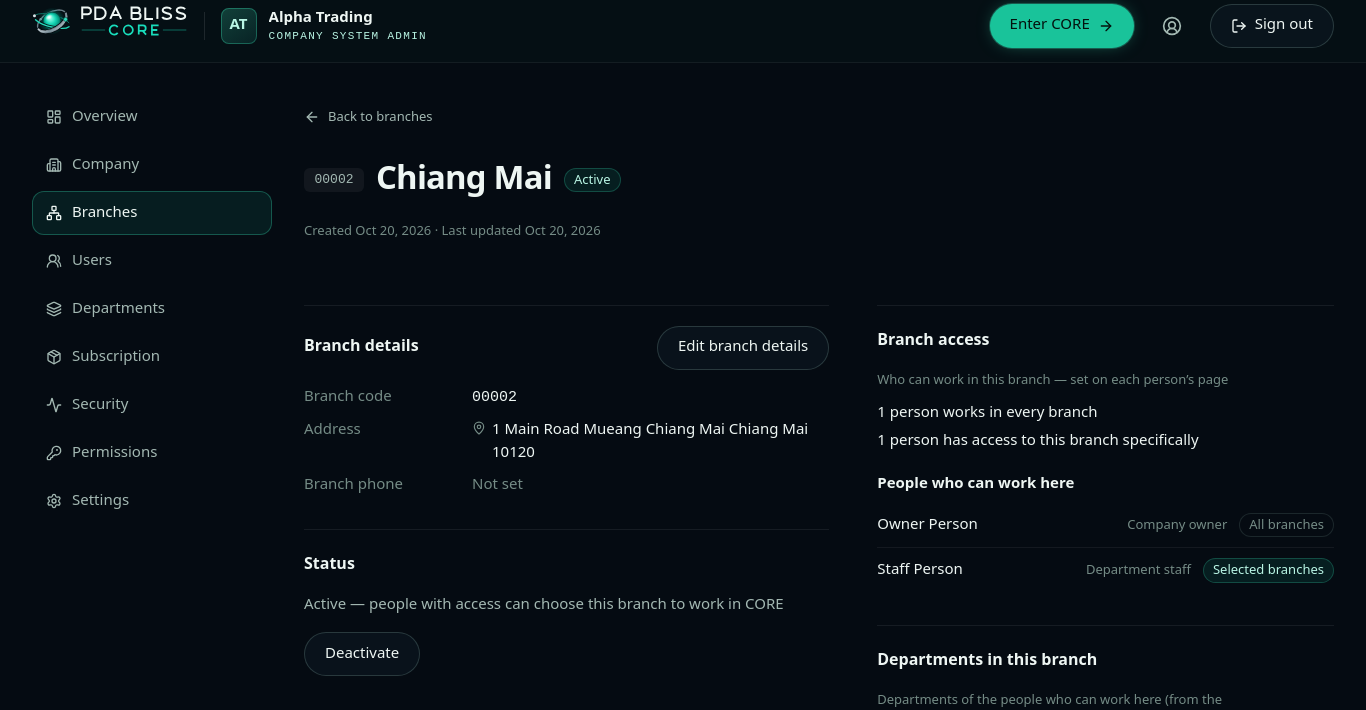
Test case: Branch detail (EP26) › shows identity, address, access and departments; edits only the changed fields
This screenshot has width=1366, height=710.
Expected: the heading "Chiang Mai" is shown, [376,151,552,208]
Expected: the heading "Branch details" is shown, [304,332,419,360]
Click the button "Edit branch details".
click(743, 348)  # box [657,326,829,370]
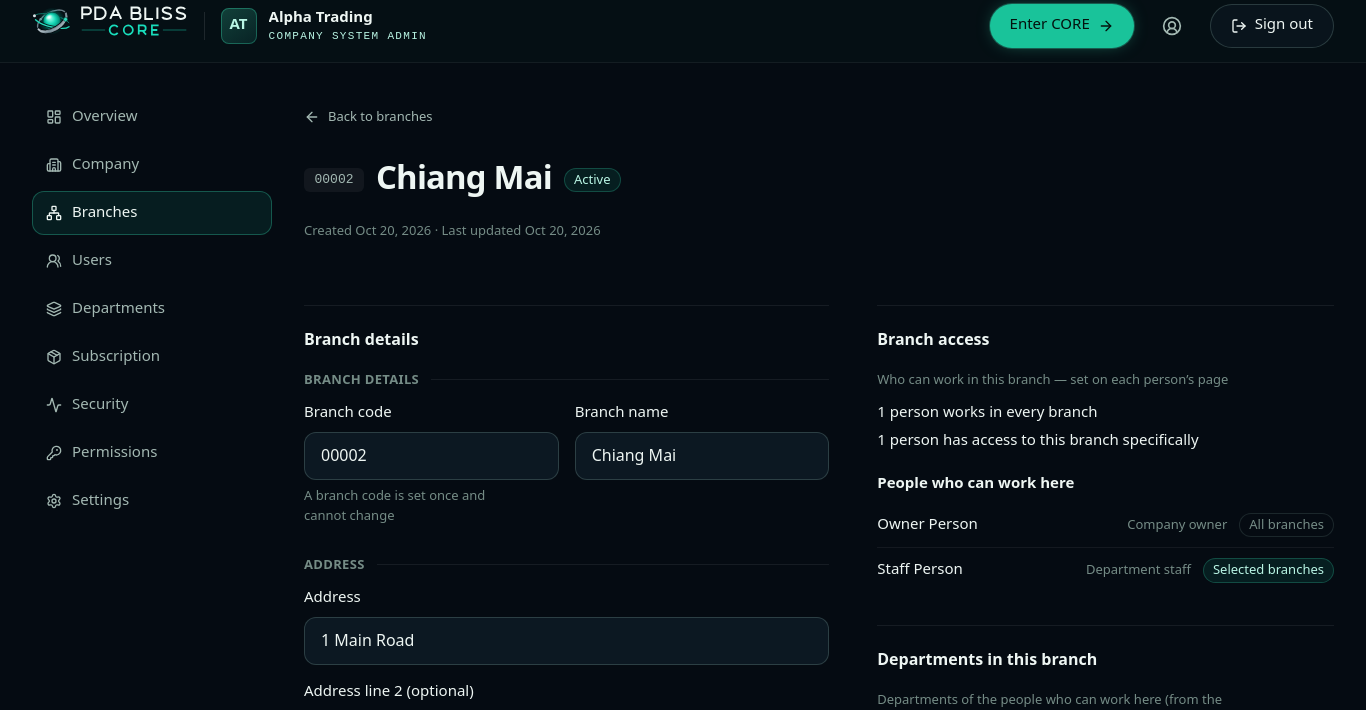
Expected: the text "A branch code is set once and cannot change" is shown, [304,486,485,526]
Replace the text in the field labelled "Branch name" with "Chiang Mai Centre" at (702, 456), box [575,432,829,480]
(page scrolled)
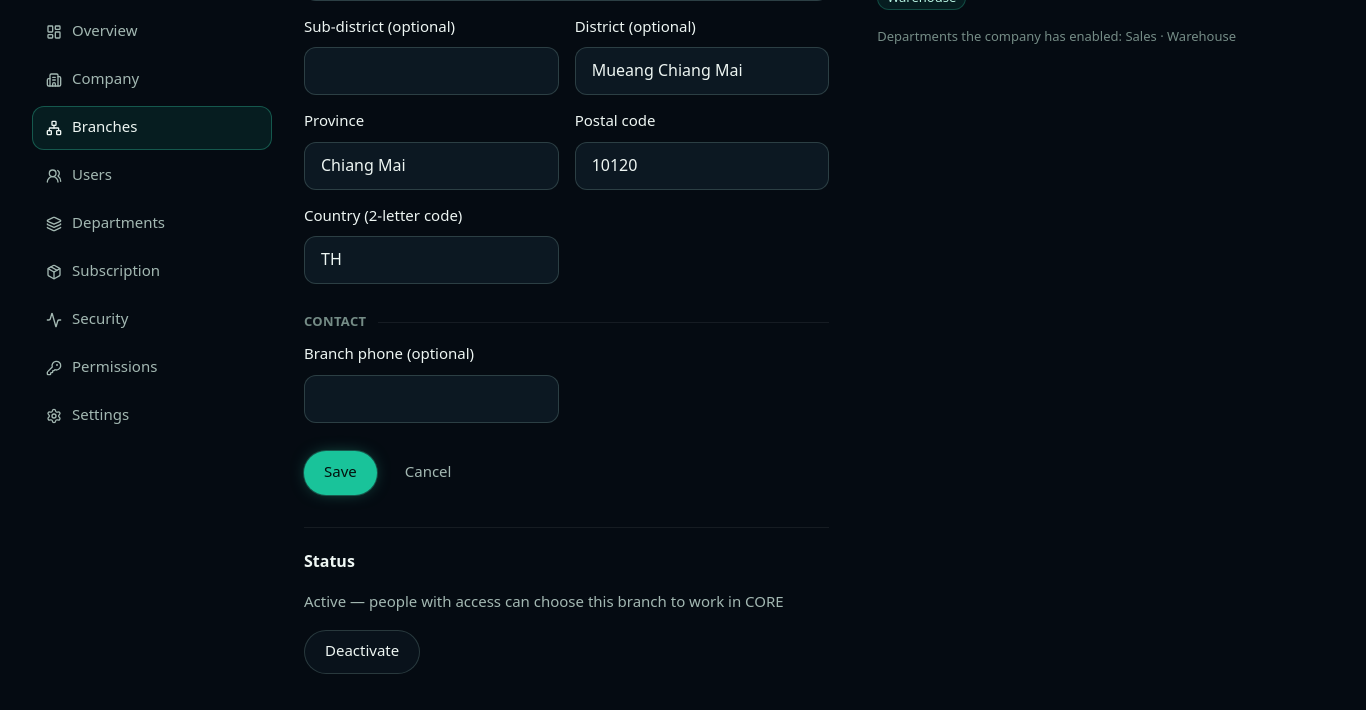
Click the button "Save".
click(340, 473)  # box [304,451,377,495]
(page scrolled)
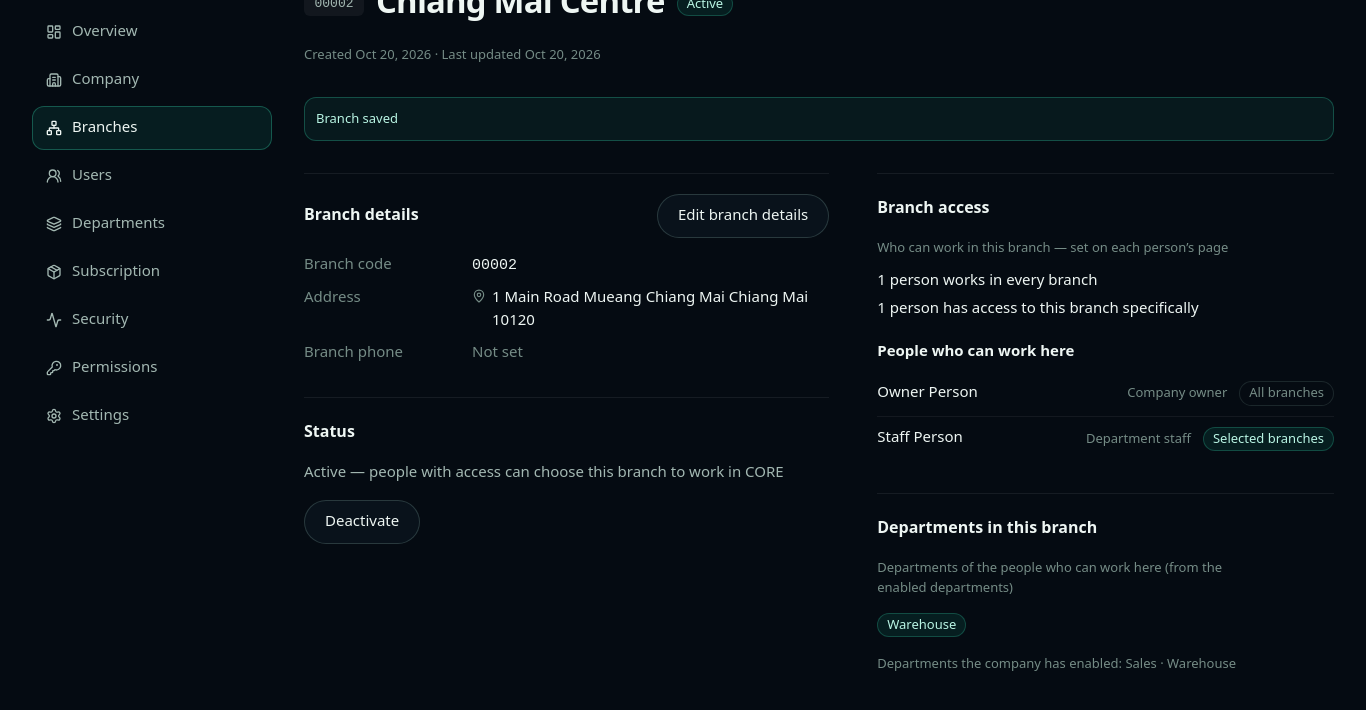
Expected: the text "Branch saved" is shown, [304,97,1334,141]
